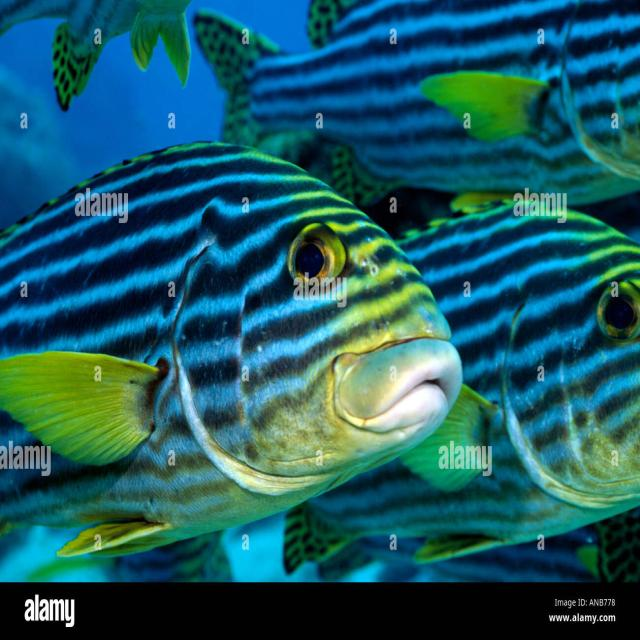RibbonedSweetlips: (1, 138, 464, 562), (285, 204, 640, 573), (195, 0, 640, 214)
